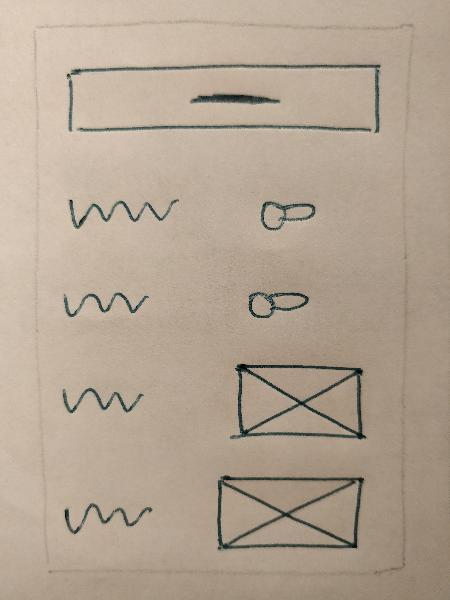button: (57, 57, 385, 143)
image: (216, 352, 372, 446), (210, 465, 366, 559)
switch: (250, 186, 320, 243), (241, 273, 311, 330)
text: (56, 177, 181, 241), (48, 275, 173, 339), (47, 372, 172, 436), (52, 487, 177, 551)
